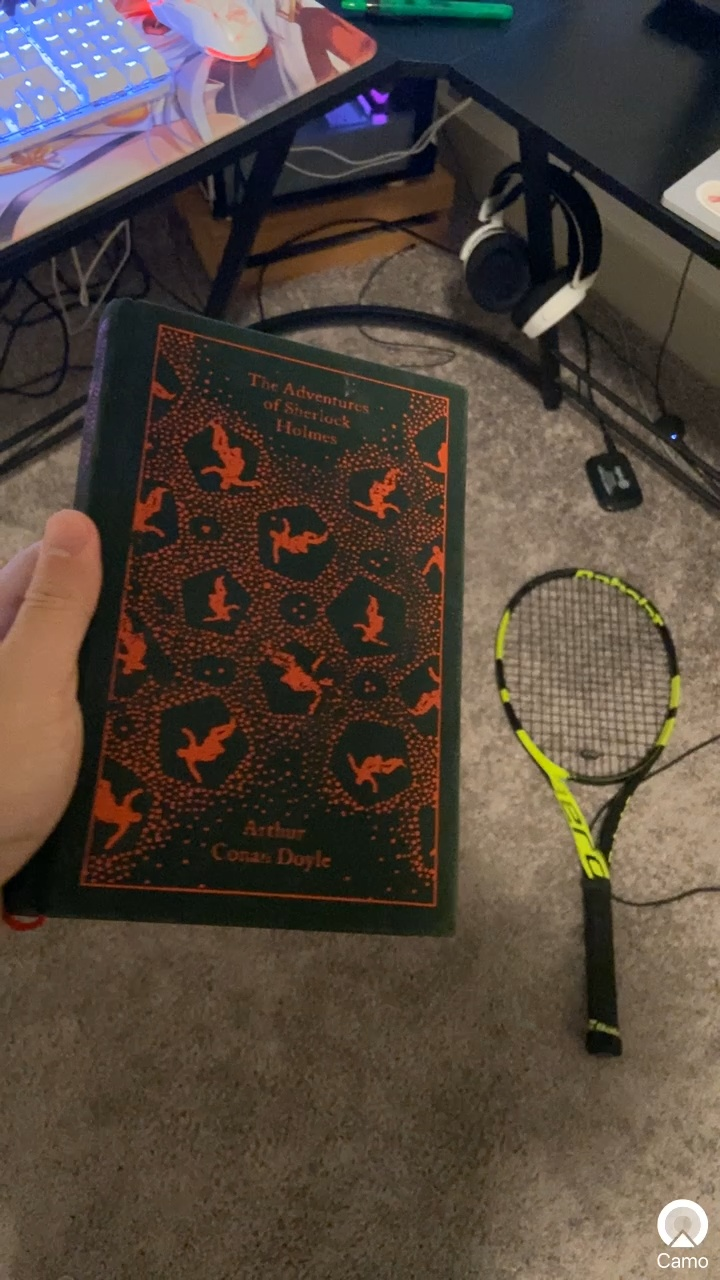Book: (14, 273, 502, 960)
